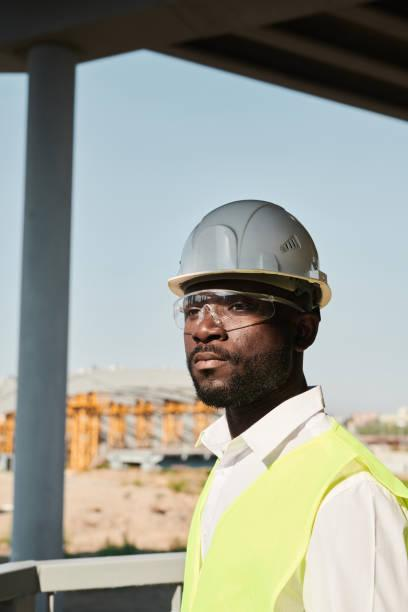goggle: (157, 283, 323, 341)
helmet: (157, 194, 345, 291)
vest: (170, 409, 408, 611)
